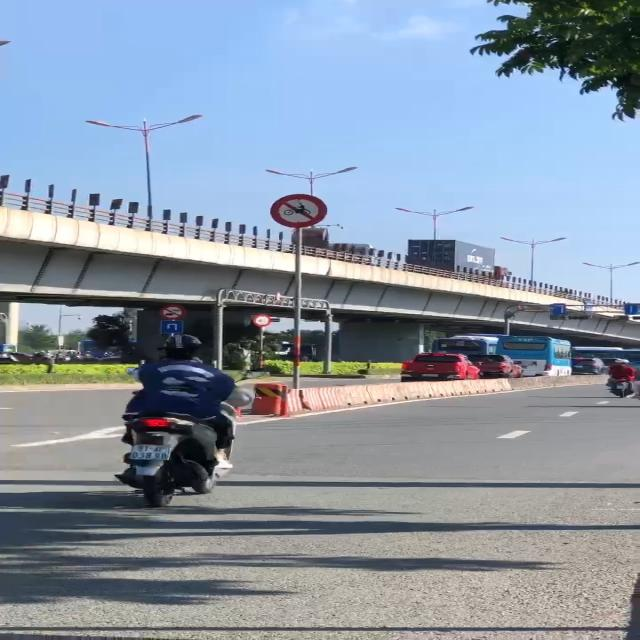Bien bao cam xe may: (265, 192, 334, 230)
Bien bao cam xe oto khach va xe oto tai: (158, 304, 184, 320)
